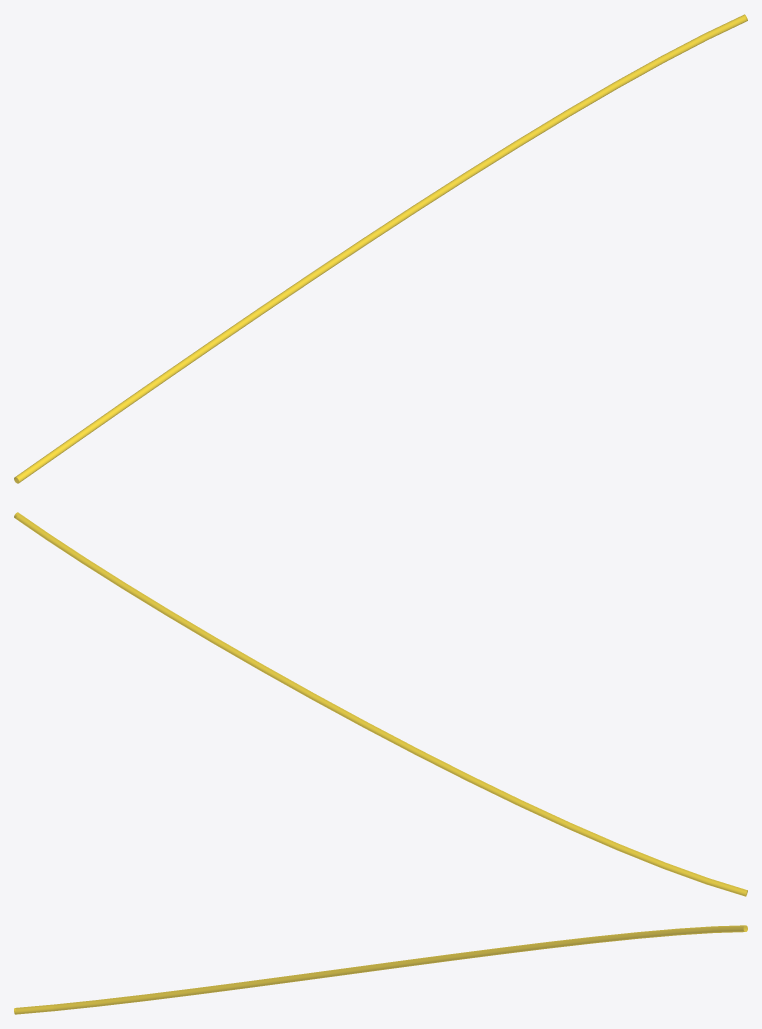
The model's file is Event_17758602_track_45.fbx.
The picture shows the model from 3 angles, top to bottom: view 1: azimuth 30°, elevation 25°; view 2: azimuth 150°, elevation 25°; view 3: azimuth 330°, elevation 25°; orthographic projection. The views are drawn at different scales.
Parts seen in each view (by area): view 1: Model; view 2: Model; view 3: Model.
Boxes of the visible parts, x1,y1,x2,y2 form: Model: (14, 14, 747, 483); Model: (14, 512, 747, 896); Model: (14, 925, 747, 1014).
Bounding box in the file's own units: 4.77 × 1.54 × 0.481.
